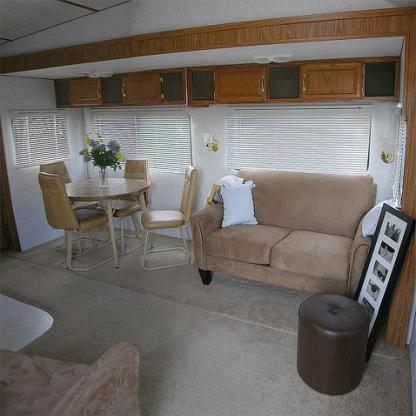chair: (37, 171, 122, 272), (40, 160, 112, 256), (140, 164, 199, 271), (95, 157, 151, 253)
diningtable: (64, 176, 154, 270)
sofa: (188, 168, 377, 300), (0, 339, 141, 415)
